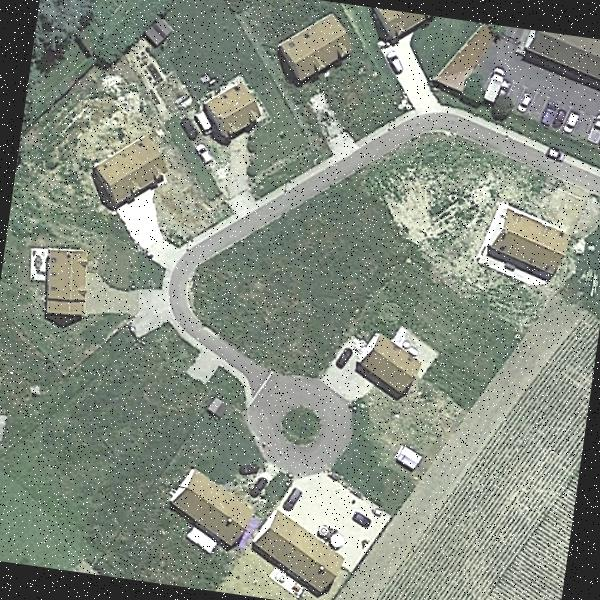Buildings: (480, 203, 576, 284), (236, 516, 344, 588), (86, 130, 172, 216), (158, 477, 256, 545), (30, 232, 97, 319), (280, 13, 356, 80), (517, 28, 600, 84), (356, 339, 422, 389), (205, 92, 253, 132), (374, 8, 426, 40)
